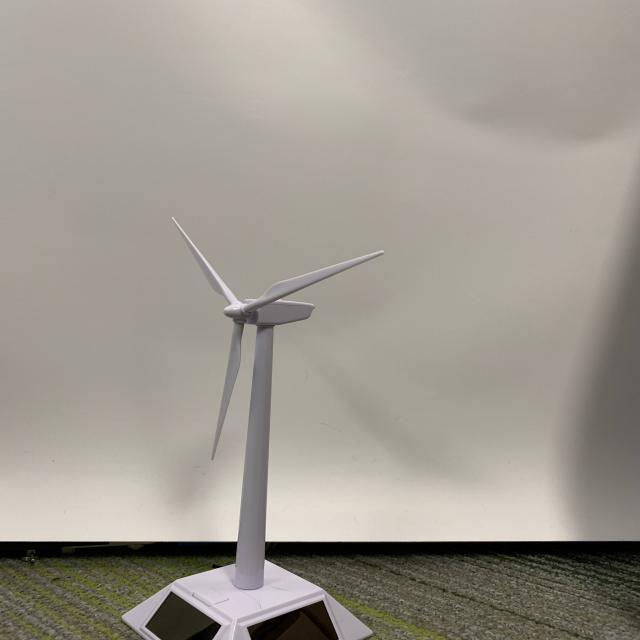solid-blade: (245, 252, 384, 312), (172, 218, 240, 305), (212, 321, 244, 459)
